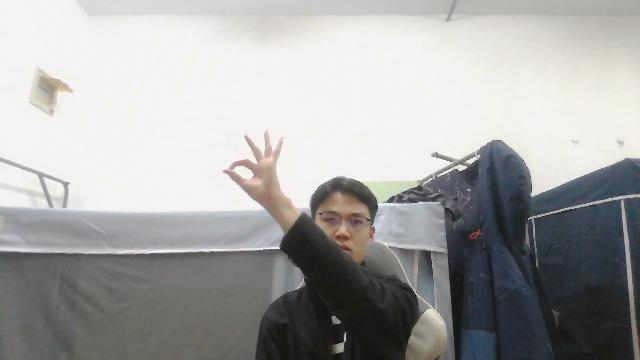ok: (221, 126, 299, 224)
